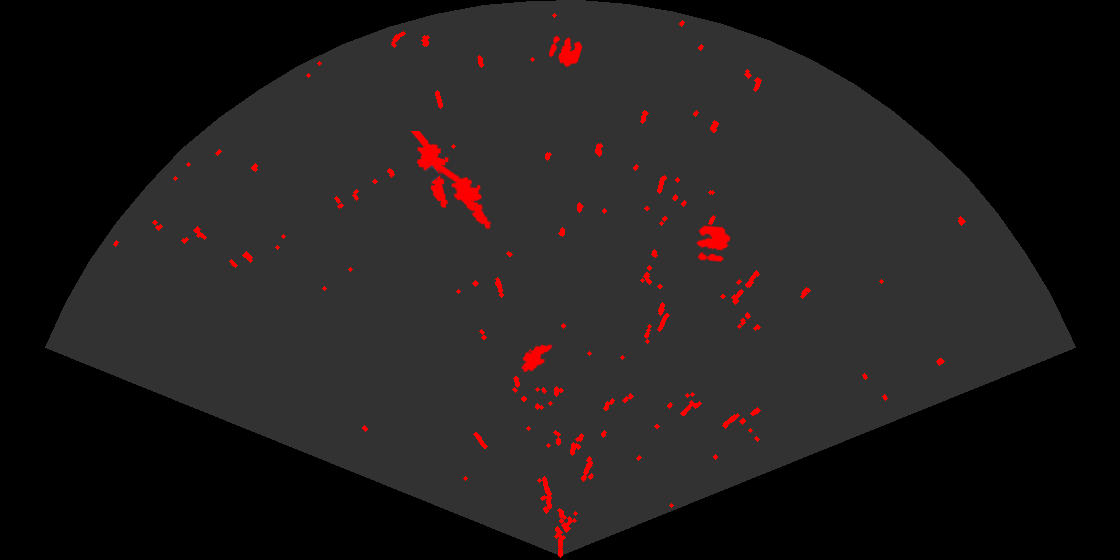AUV: (520, 343, 554, 374)
ball: (694, 224, 732, 263), (547, 34, 584, 68)
frogman: (438, 165, 493, 231), (409, 131, 450, 210)
